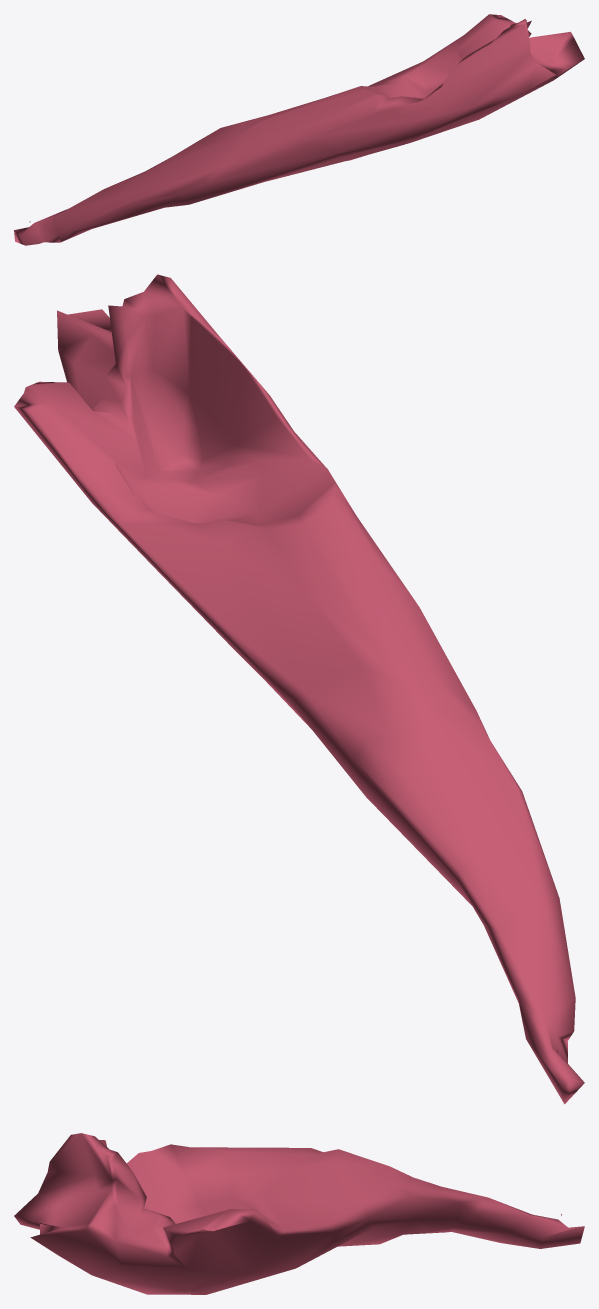
3 views of the same model, one above another, from view 1: azimuth 30°, elevation 25°; view 2: azimuth 150°, elevation 25°; view 3: azimuth 270°, elevation 25° (orthographic). The views are drawn at different scales.
Visible parts, largest first — view 1: 右侧拇收肌斜头; view 2: 右侧拇收肌斜头; view 3: 右侧拇收肌斜头.
Boxes of the visible parts, <box> form: 右侧拇收肌斜头: <box>14,14,584,245</box>; 右侧拇收肌斜头: <box>14,274,584,1104</box>; 右侧拇收肌斜头: <box>14,1133,584,1294</box>.
Size of the model in its own units: 0.0648 by 0.0363 by 0.0458.
